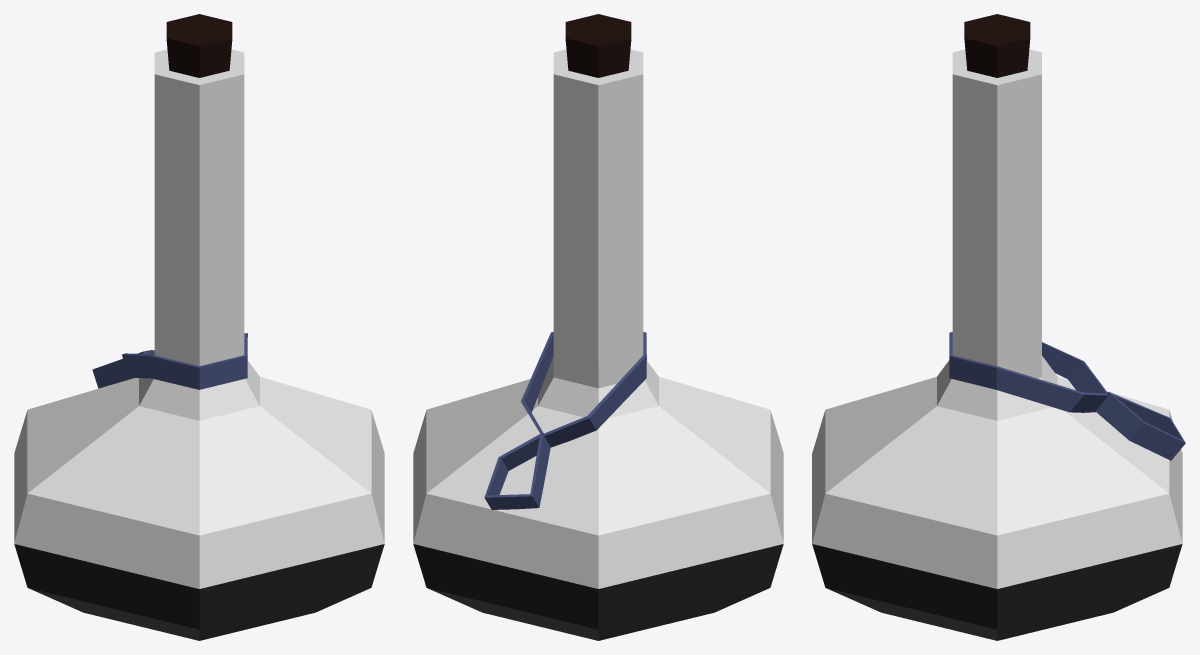
Rendered from Viski.fbx.
3 renders of one model, left to right at view 1: azimuth 30°, elevation 25°; view 2: azimuth 150°, elevation 25°; view 3: azimuth 270°, elevation 25°, orthographic.
Parts seen in each view (by area): view 1: Circle; view 2: Circle; view 3: Circle.
Boxes of the visible parts, box(x1,y1,x2,y2) form: Circle: box(14, 14, 384, 640); Circle: box(413, 14, 783, 640); Circle: box(812, 14, 1185, 640).
Bounding box in the file's own units: 22.87 × 32.7 × 19.98.
